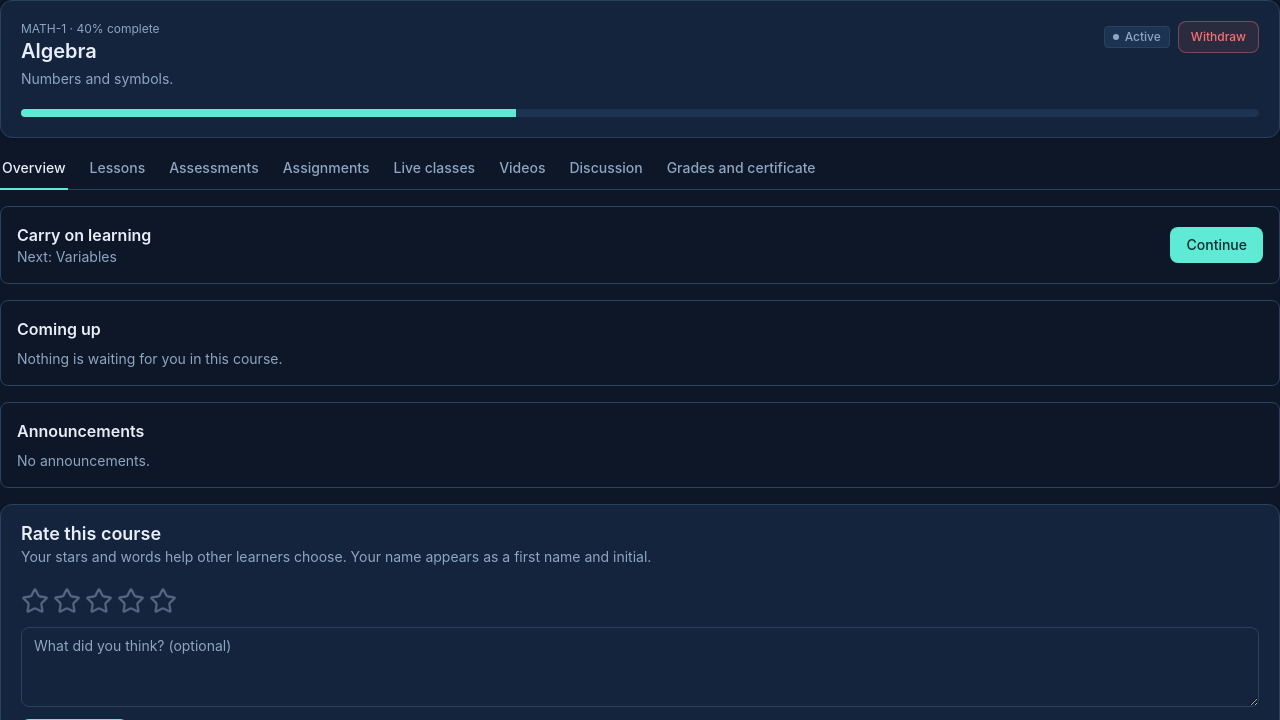
it: grades and certificate › explains an empty state kindly
Click the tab "Grades and certificate" at (741,172), box [665,154,818,190]
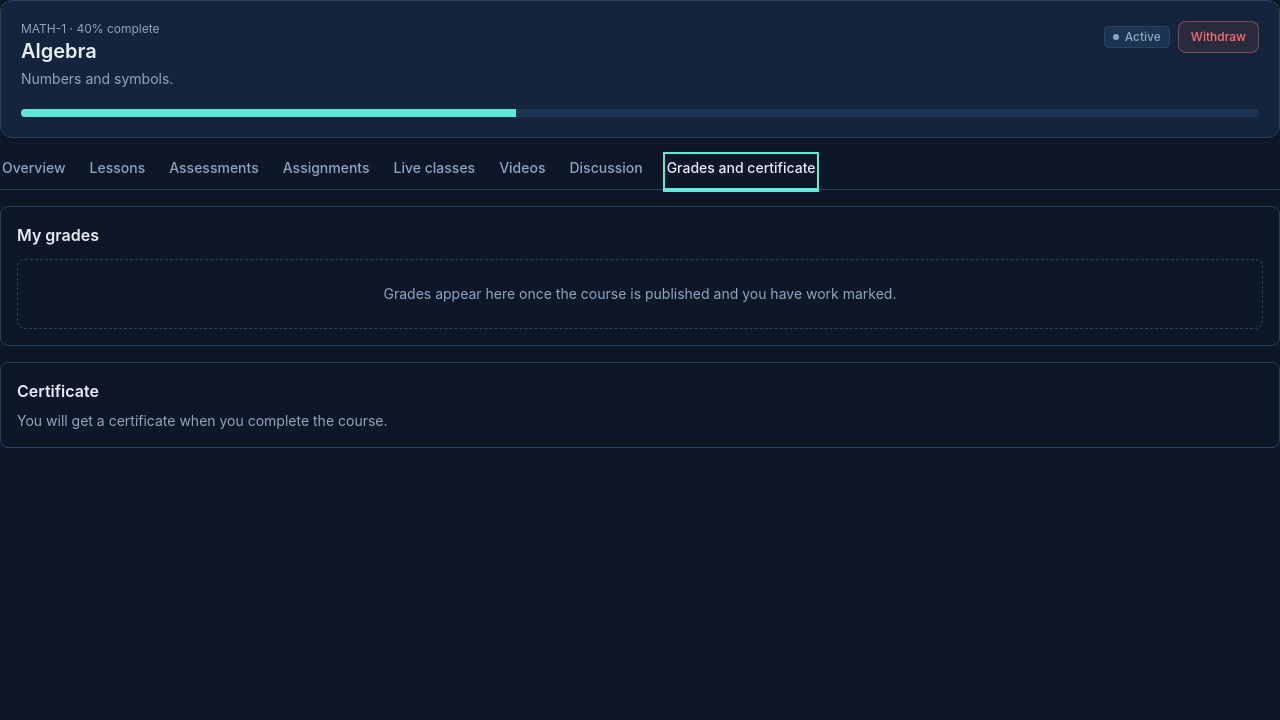
Check: the text "Grades appear here once" is shown, box [384,285,896,302]
Check: the text "You will get a certificate when you complete the course." is shown, box [17,412,388,429]
